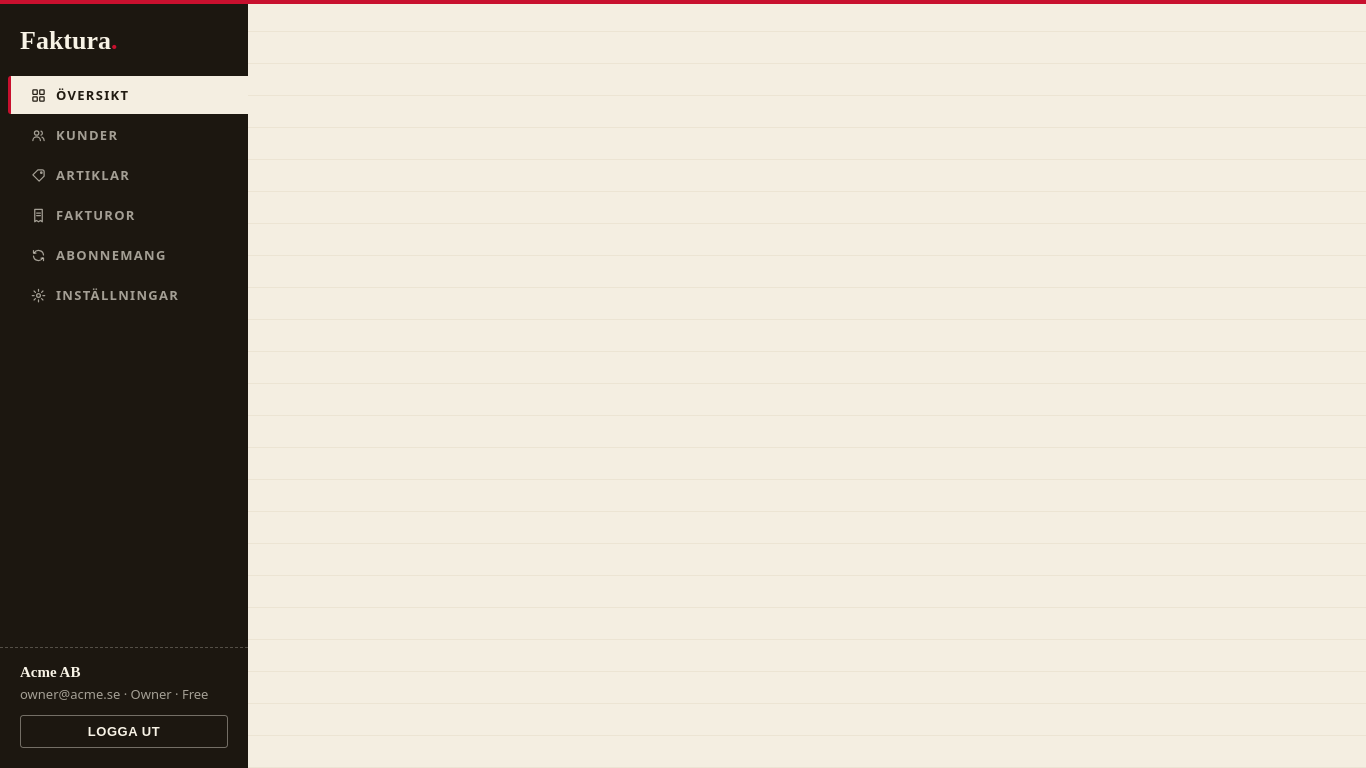
it: App auth-flöde › inställningar: sidan visar administrationskorten
Expected: the text "Acme AB" is shown, x1=20 y1=664 x2=80 y2=680
Click the link "Inställningar": coordinates (105, 295) x1=31 y1=286 x2=179 y2=304
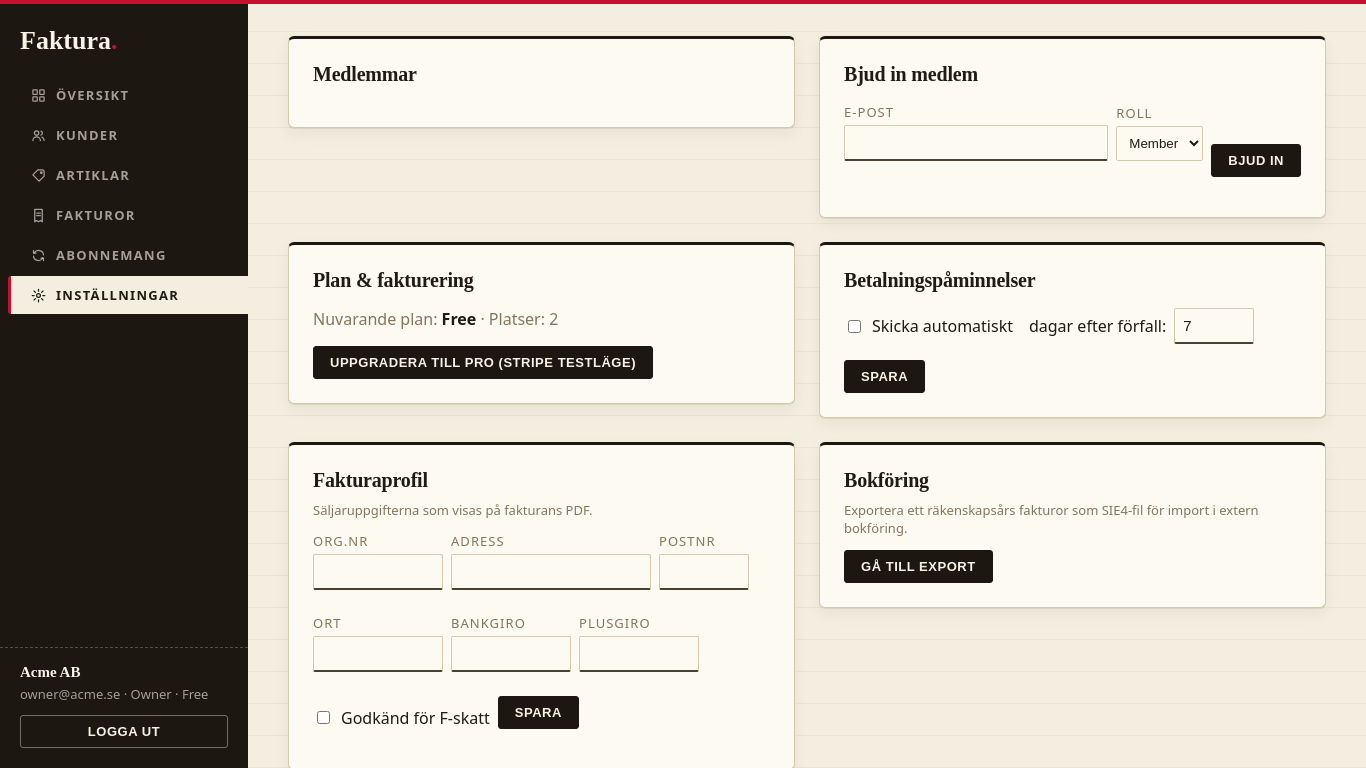
Now the heading "Medlemmar" is shown, box x1=313 y1=63 x2=417 y2=85
Now the heading "Plan & fakturering" is shown, box x1=313 y1=269 x2=474 y2=291
Now the heading "Fakturaprofil" is shown, box x1=313 y1=469 x2=428 y2=491
// Översikten ska inte längre bära administrationen.
Click the link "Översikt": coordinates (80, 95) x1=31 y1=86 x2=129 y2=104
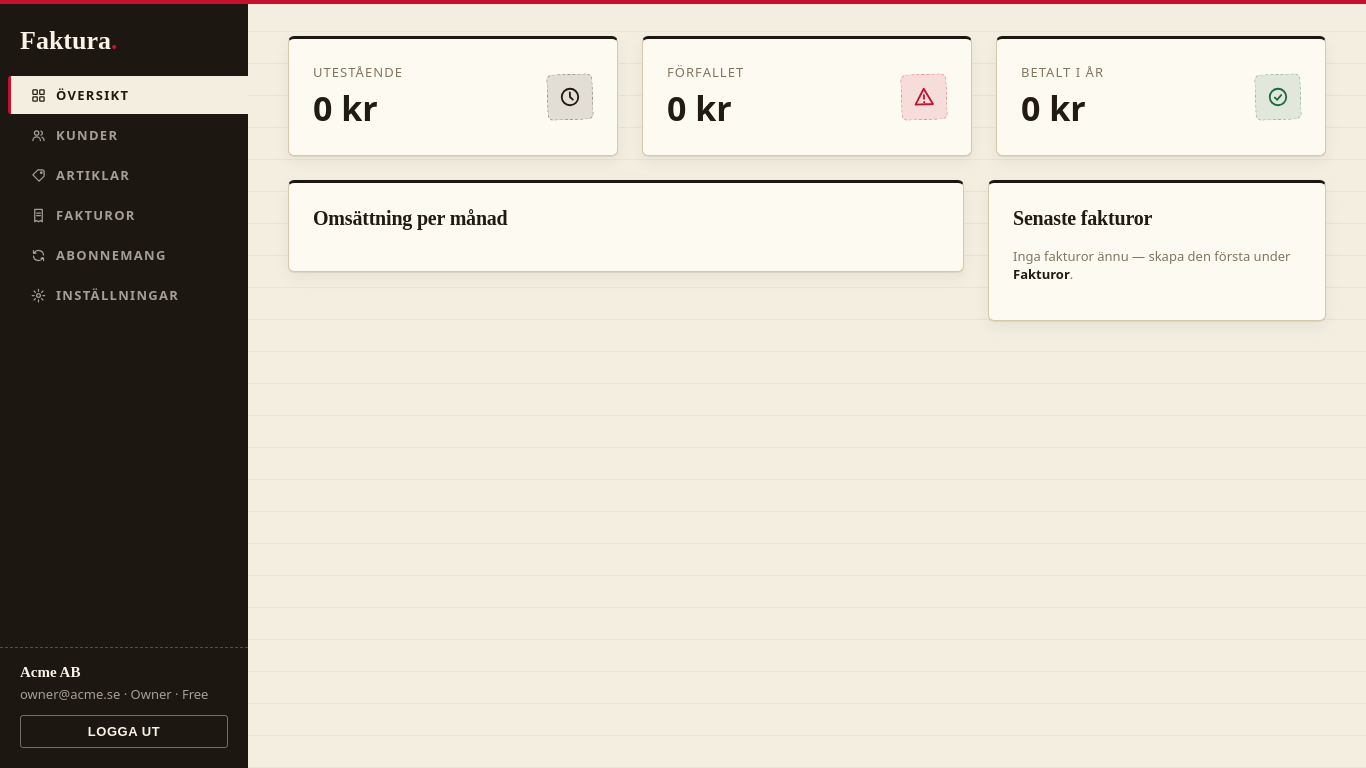
Now the text "Utestående" is shown, box x1=313 y1=63 x2=403 y2=81
Now the heading "Medlemmar" is gone
